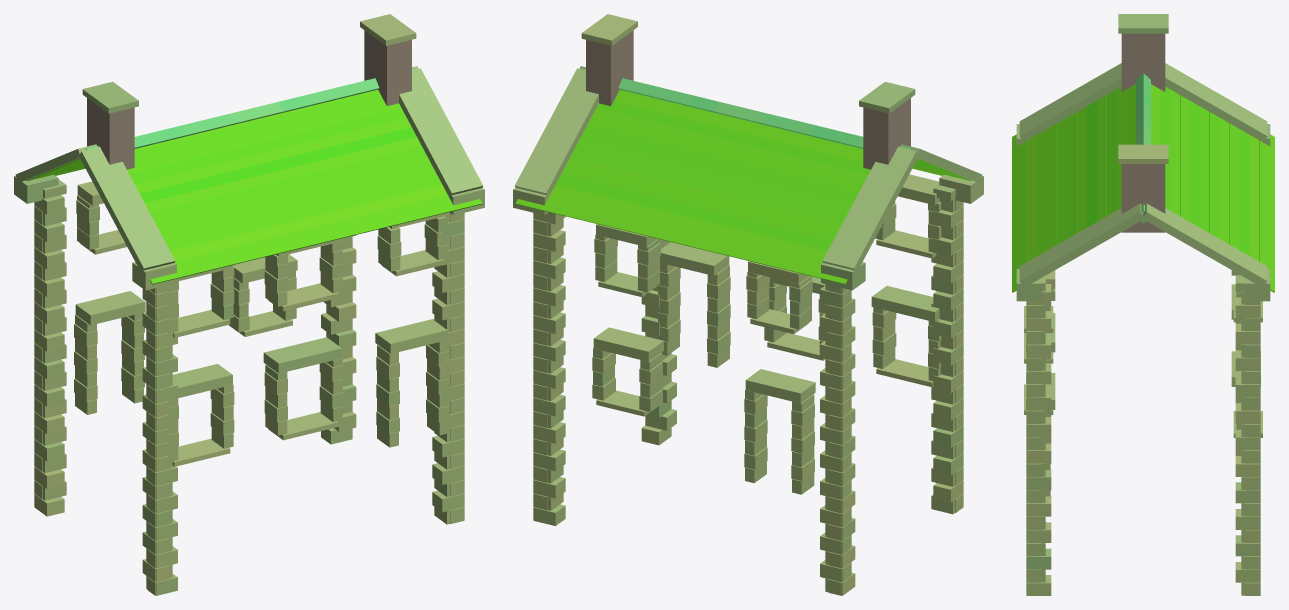
Rendered from SM_Bld_140_Stone.glb.
3 views of the same model, side by side, from view 1: azimuth 30°, elevation 25°; view 2: azimuth 150°, elevation 25°; view 3: azimuth 270°, elevation 25° (orthographic). The views are drawn at different scales.
Visible parts, largest first — view 1: SM_Bld_140_Stone; view 2: SM_Bld_140_Stone; view 3: SM_Bld_140_Stone.
Part boxes in pixels (x1=…): SM_Bld_140_Stone: x1=14, y1=14, x2=484, y2=595; SM_Bld_140_Stone: x1=513, y1=14, x2=983, y2=595; SM_Bld_140_Stone: x1=1012, y1=14, x2=1274, y2=595.
Size of the model in its own units: 7.77 by 9.91 by 5.4.
